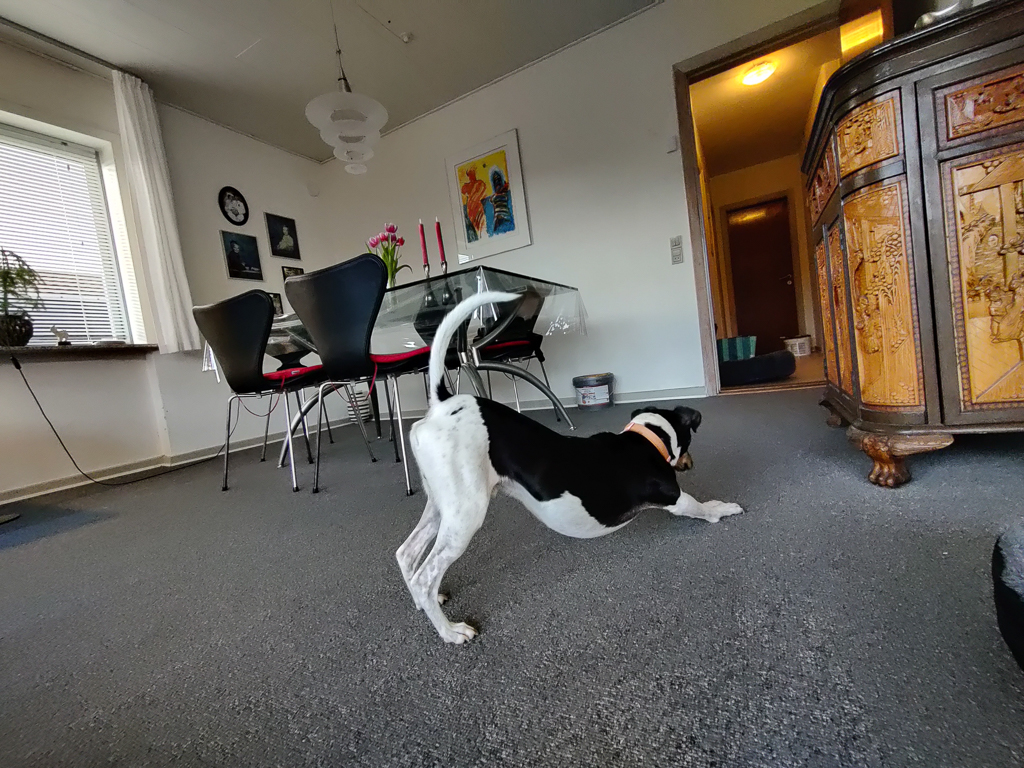Dog: (385, 281, 750, 660)
